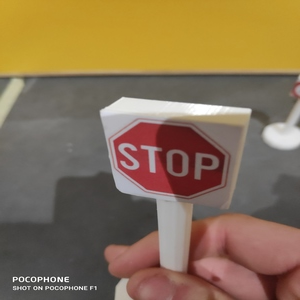stop-bord: (109, 117, 232, 205)
